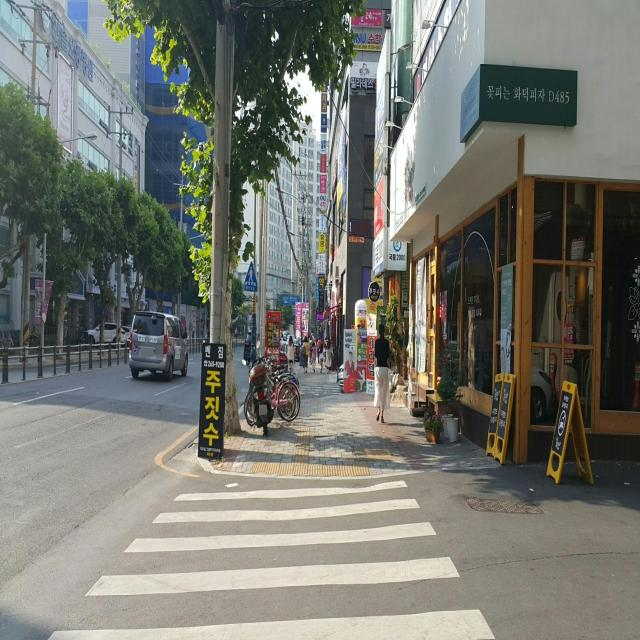횡단보도: (44, 474, 500, 640)
